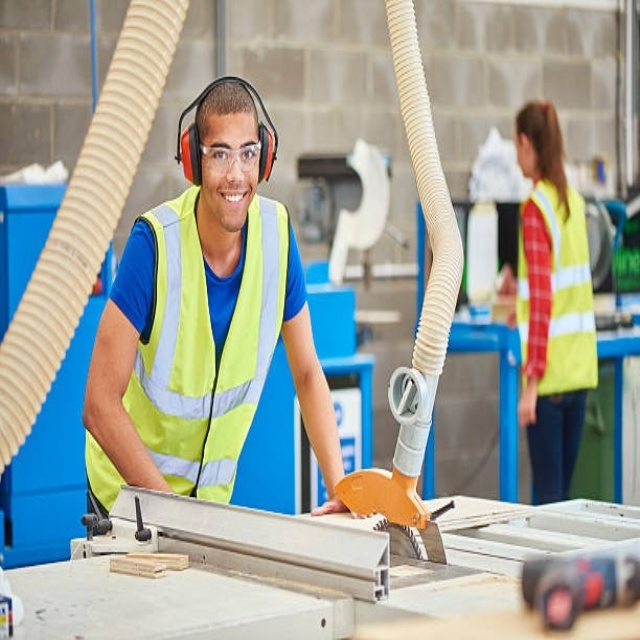Gafas: (200, 141, 262, 173)
Sin_mascara: (214, 184, 250, 223)
